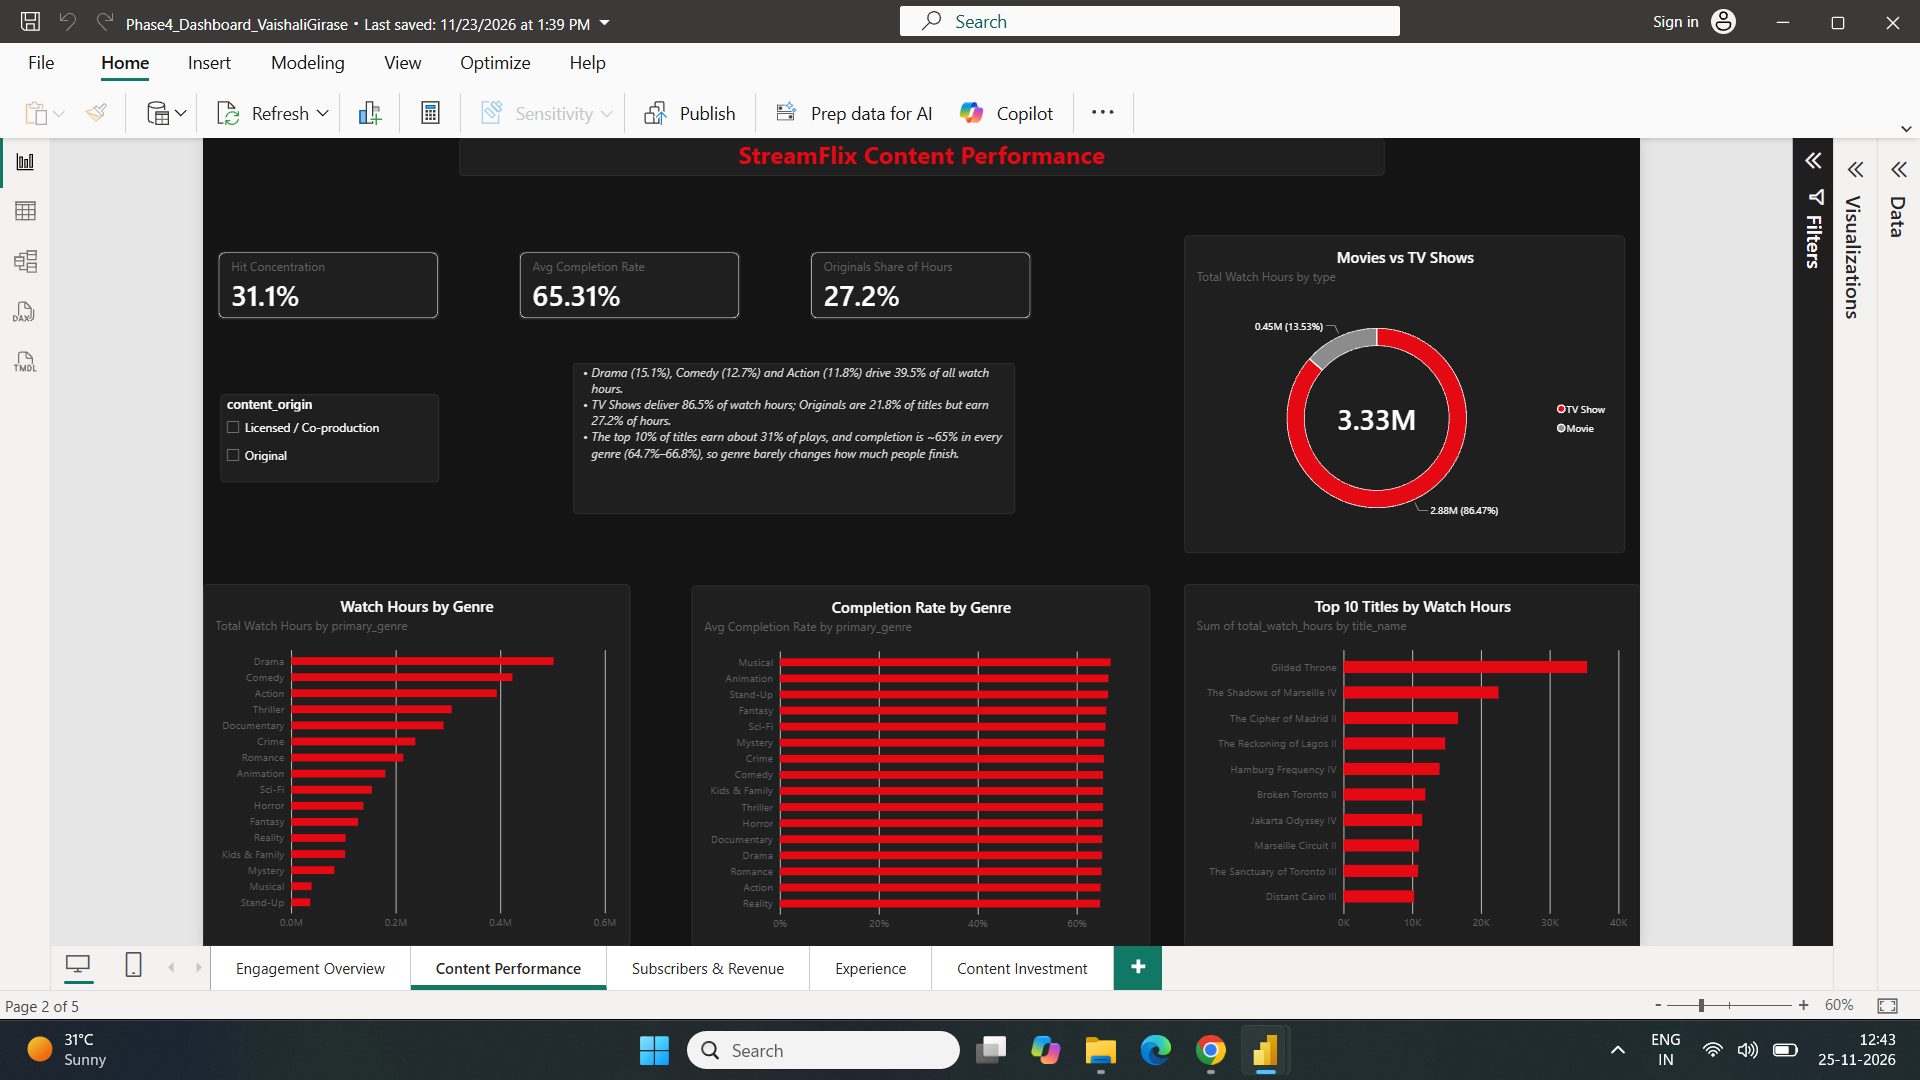

This screenshot's page, from the dashboard's own definition file:
{"tool":"powerbi","page":{"name":"Content Performance","canvas":[1920,1080],"ordinal":1},"visuals":[{"type":"cardVisual","fields":{"Data":["dim_titles.Hit Concentration"]},"box":[20.6,152.3,295,90],"z":0},{"type":"cardVisual","fields":{"Data":["dim_titles.Originals Share of Hours"]},"box":[811,152.3,295,90],"z":1000},{"type":"cardVisual","fields":{"Data":["fact_watch.Avg Completion Rate"]},"box":[422,152.3,295,90],"z":2000},{"type":"clusteredBarChart","title":"Watch Hours by Genre","fields":{"Category":["dim_titles.primary_genre"],"Y":["fact_watch.Total Watch Hours"]},"box":[0,597.2,570,483.2],"z":3000},{"type":"donutChart","title":"Movies vs TV Shows","fields":{"Category":["dim_titles.type"],"Y":["fact_watch.Total Watch Hours"]},"box":[1311.2,129.7,588.7,424],"z":4000},{"type":"clusteredBarChart","title":"Completion Rate by Genre","fields":{"Category":["dim_titles.primary_genre"],"Y":["fact_watch.Avg Completion Rate"]},"box":[653.3,597.2,611.7,483.2],"z":5000},{"type":"slicer","fields":{"Values":["dim_titles.content_origin"]},"box":[22.6,341.7,292.3,117.3],"z":6000},{"type":"textbox","box":[342,0,1236,50],"z":7000},{"type":"textbox","box":[494,300.5,590.7,201.7],"z":8000},{"type":"clusteredBarChart","title":"Watch Hours by Genre","fields":{"Category":["dim_titles.primary_genre"],"Y":["fact_watch.Total Watch Hours"]},"box":[0,596.8,570,483.2],"z":9000},{"type":"clusteredBarChart","title":"Top 10 Titles by Watch Hours","fields":{"Category":["dim_titles.title_name"],"Y":["Sum(dim_titles.total_watch_hours)"]},"box":[1311.2,596.9,609.3,483.7],"z":10000}]}

Visuals, with their boxes on the page's 1920x1080 design canvas (x1, y1, x2, y2). These are canvas units, not pixel positions in the 1920x1080 screenshot, which may show the page scaled, cropped or inside an application window:
cardVisual - dim_titles.Hit Concentration: box(21, 152, 316, 242)
cardVisual - dim_titles.Originals Share of Hours: box(811, 152, 1106, 242)
cardVisual - fact_watch.Avg Completion Rate: box(422, 152, 717, 242)
"Watch Hours by Genre" clusteredBarChart: box(0, 597, 570, 1080)
"Movies vs TV Shows" donutChart: box(1311, 130, 1900, 554)
"Completion Rate by Genre" clusteredBarChart: box(653, 597, 1265, 1080)
slicer - dim_titles.content_origin: box(23, 342, 315, 459)
textbox: box(342, 0, 1578, 50)
textbox: box(494, 300, 1085, 502)
"Watch Hours by Genre" clusteredBarChart: box(0, 597, 570, 1080)
"Top 10 Titles by Watch Hours" clusteredBarChart: box(1311, 597, 1920, 1081)
